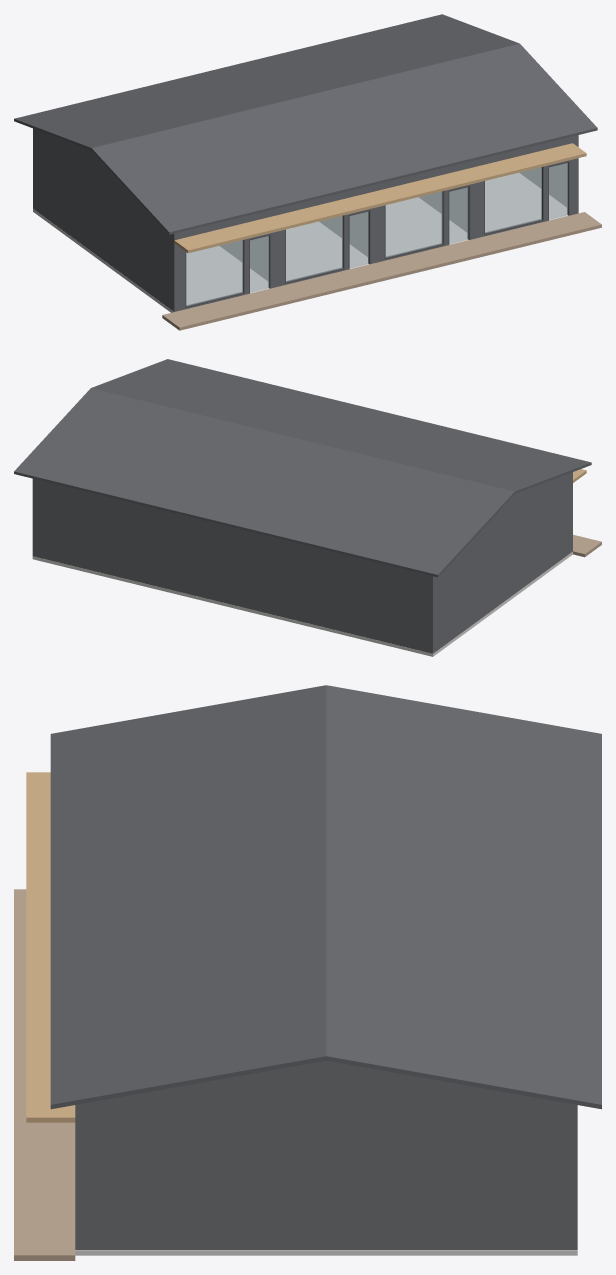
The model's file is galpon-locales.glb.
3 views of the same model, one above another, from view 1: azimuth 30°, elevation 25°; view 2: azimuth 150°, elevation 25°; view 3: azimuth 270°, elevation 25° (orthographic). The views are drawn at different scales.
Visible parts, largest first — view 1: Faldón S · Chapa techo, Faldón N · Chapa techo, Muro O · Chapa negra, Piso · Piso, Vereda 1 · Deck madera, Muro S · Chapa negra, Ventana S3 · Vidrio, Ventana S2 · Vidrio, Ventana S4 · Vidrio, Ventana S1 · Vidrio, Marquesina 1 · Madera marquesina, Marquesina 2 · Madera marquesina (+13 smaller); view 2: Faldón N · Chapa techo, Muro N · Chapa negra, Faldón S · Chapa techo, Muro O · Chapa negra, Platea · Hormigón, Vereda 1 · Deck madera; view 3: Faldón S · Chapa techo, Faldón N · Chapa techo, Muro E · Chapa negra, Vereda 1 · Deck madera, Platea · Hormigón, Marquesina 4 · Madera marquesina, Marquesina 1 · Madera marquesina, Marquesina 2 · Madera marquesina, Marquesina 3 · Madera marquesina, Muro S · Chapa negra, Muro N · Chapa negra.
Boxes of the visible parts, x1,y1,x2,y2 form: Faldón S · Chapa techo: [91, 43, 597, 234]; Faldón N · Chapa techo: [14, 14, 519, 150]; Muro O · Chapa negra: [34, 129, 172, 310]; Piso · Piso: [186, 173, 566, 304]; Vereda 1 · Deck madera: [162, 212, 601, 330]; Muro S · Chapa negra: [172, 135, 578, 311]; Ventana S3 · Vidrio: [385, 191, 442, 257]; Ventana S2 · Vidrio: [286, 215, 342, 281]; Ventana S4 · Vidrio: [485, 167, 541, 232]; Ventana S1 · Vidrio: [186, 240, 242, 305]; Marquesina 1 · Madera marquesina: [174, 216, 287, 253]; Marquesina 2 · Madera marquesina: [274, 192, 387, 228]; Faldón N · Chapa techo: [14, 388, 514, 577]; Muro N · Chapa negra: [32, 478, 434, 653]; Faldón S · Chapa techo: [91, 359, 591, 493]; Muro O · Chapa negra: [434, 473, 571, 652]; Platea · Hormigón: [32, 551, 572, 656]; Vereda 1 · Deck madera: [573, 534, 601, 557]; Faldón S · Chapa techo: [50, 685, 326, 1109]; Faldón N · Chapa techo: [326, 685, 601, 1109]; Muro E · Chapa negra: [81, 1060, 571, 1249]; Vereda 1 · Deck madera: [14, 889, 75, 1260]; Platea · Hormigón: [75, 1250, 577, 1255]; Marquesina 4 · Madera marquesina: [26, 1031, 75, 1122]; Marquesina 1 · Madera marquesina: [26, 772, 50, 858]; Marquesina 2 · Madera marquesina: [26, 858, 50, 944]; Marquesina 3 · Madera marquesina: [26, 945, 50, 1031]; Muro S · Chapa negra: [75, 1104, 81, 1249]; Muro N · Chapa negra: [571, 1104, 577, 1249].
Size of the model in its own units: 21.5 by 5.67 by 14.4.
